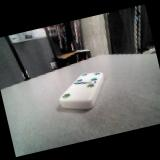domino: (59, 72, 103, 109)
